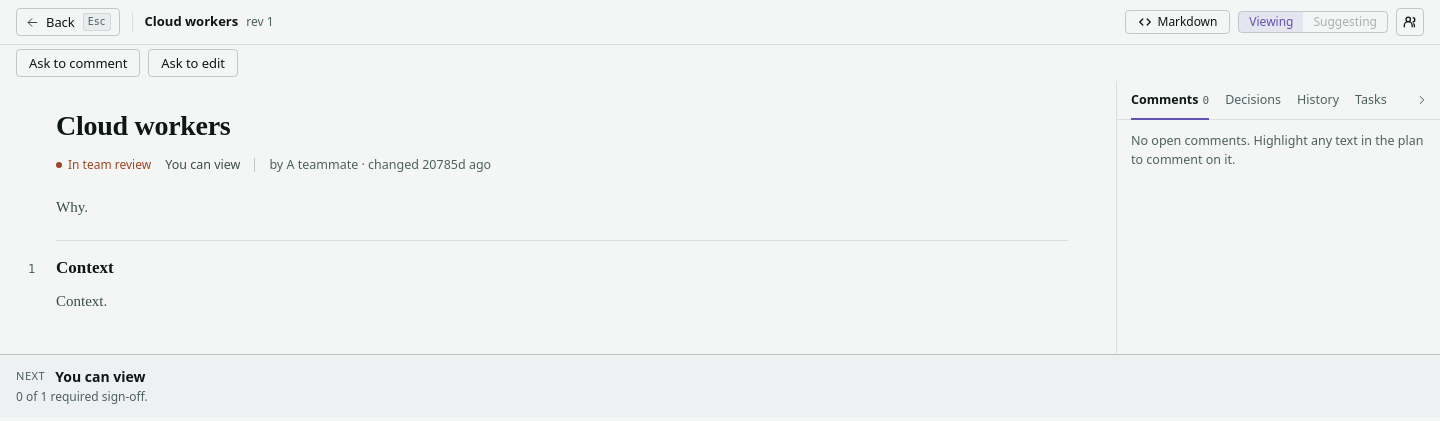
Test: asks the author for access and keeps a sent request disabled in section s
Click the button "Ask to comment" at (78, 63), box [16,49,140,77]
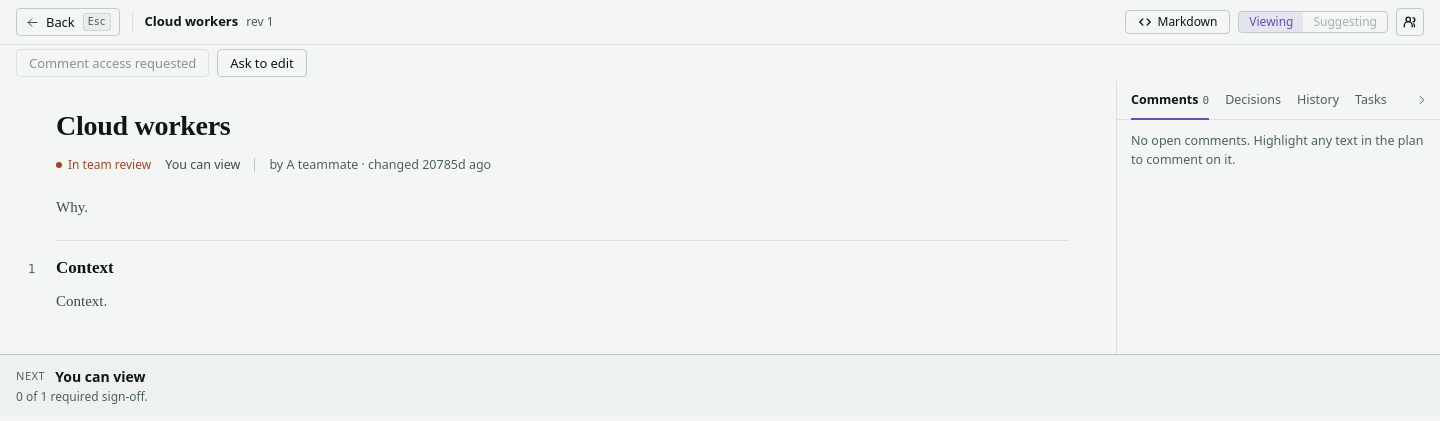
Check: the button "Comment access requested" is disabled, box [16,49,209,77]
